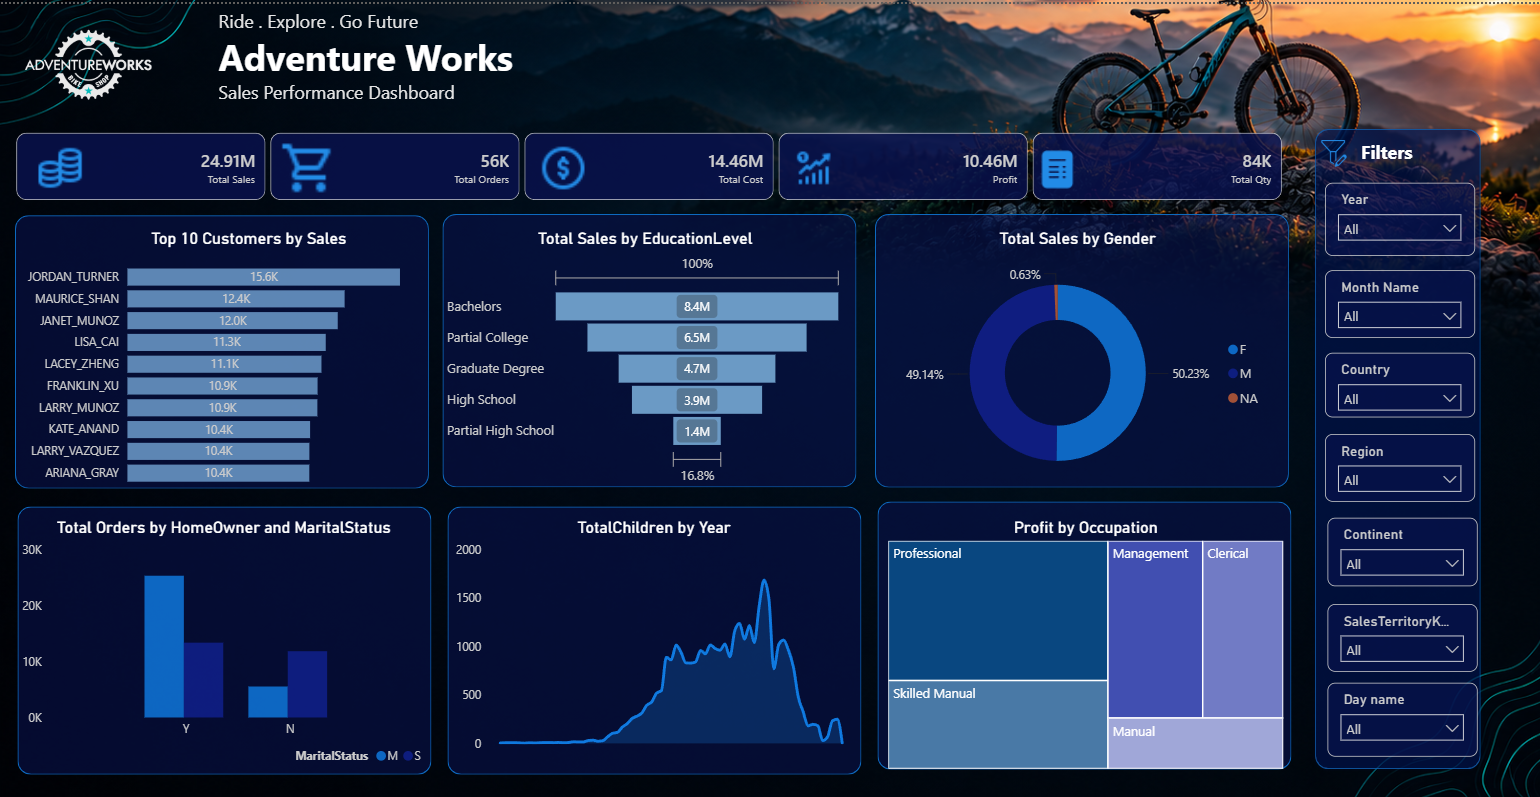

Layout of this report page (visuals, bound fields, positions):
{"tool":"powerbi","page":{"name":"Overview","canvas":[1600,800],"ordinal":1},"visuals":[{"type":"shape","box":[1362.9,125.7,180,672.9],"z":1000},{"type":"slicer","fields":{"Values":["Territories.Continent"]},"box":[1378.6,534.3,155.7,71.4],"z":2000},{"type":"slicer","fields":{"Values":["Territories.Country"]},"box":[1377.1,362.9,155.7,67.1],"z":3000},{"type":"slicer","fields":{"Values":["Territories.Region"]},"box":[1377.1,447.1,155.7,70],"z":4000},{"type":"slicer","fields":{"Values":["Territories.SalesTerritoryKey"]},"box":[1378.6,622.9,155.7,70],"z":5000},{"type":"slicer","fields":{"Values":["Calender Table.Year"]},"box":[1377.1,185.7,155.7,75.7],"z":6000},{"type":"slicer","fields":{"Values":["Calender Table.Day name"]},"box":[1378.6,705.7,155.7,77.1],"z":7000},{"type":"slicer","fields":{"Values":["Calender Table.Month Name"]},"box":[1377.1,277.1,155.7,70],"z":8000},{"type":"shape","box":[32.9,225.7,545.7,574.3],"z":9000},{"type":"shape","box":[582.9,224.3,757.1,285.7],"z":11000},{"type":"shape","box":[582.9,518.6,757.1,280],"z":12000},{"type":"cardVisual","fields":{"Data":["Sales.Total Sales","Sales.Total Orders","Sales.Total Cost","Sales.Profit","Sales.Total Qty"]},"box":[15.7,117.1,1347.1,104.3],"z":13000},{"type":"image","box":[15.7,0,152.9,125.7],"z":14000},{"type":"image","box":[48.6,135.7,65.7,70],"z":15000},{"type":"image","box":[305.7,141.4,57.1,65.7],"z":16000},{"type":"image","box":[567.1,135.7,51.4,70],"z":17000},{"type":"image","box":[835.7,135.7,51.4,70],"z":18000},{"type":"image","box":[1097.1,137.1,57.1,70],"z":19000},{"type":"textbox","box":[1408.6,135.7,102.9,40],"z":25000},{"type":"image","box":[1362.9,140,45.7,28.6],"z":26000},{"type":"textbox","box":[221.4,0,357.1,125.7],"z":27000},{"type":"decompositionTreeVisual","fields":{"Analyze":["Sales.Total Sales"],"ExplainBy":["Territories.Country","Territories.Region"]},"box":[32.9,247.1,524.3,551.4],"z":27001},{"type":"lineChart","fields":{"Category":["Calender Table.Year","Calender Table.Month number"],"Y":["Sales.Total Sales running total in Date"]},"box":[582.9,247.1,757.1,251.4],"z":27002},{"type":"kpi","fields":{"Indicator":["Sales.Total Sales"],"TrendLine":["Calender Table.start of month"],"Goal":["Sales.target of sales"]},"box":[592.9,534.3,747.1,264.3],"z":27003}]}

Visuals, with their boxes on the page's 1600x800 design canvas (x1, y1, x2, y2). These are canvas units, not pixel positions in the 1540x797 screenshot, which may show the page scaled, cropped or inside an application window:
shape: locate(1363, 126, 1543, 799)
slicer - Territories.Continent: locate(1379, 534, 1534, 606)
slicer - Territories.Country: locate(1377, 363, 1533, 430)
slicer - Territories.Region: locate(1377, 447, 1533, 517)
slicer - Territories.SalesTerritoryKey: locate(1379, 623, 1534, 693)
slicer - Calender Table.Year: locate(1377, 186, 1533, 261)
slicer - Calender Table.Day name: locate(1379, 706, 1534, 783)
slicer - Calender Table.Month Name: locate(1377, 277, 1533, 347)
shape: locate(33, 226, 579, 800)
shape: locate(583, 224, 1340, 510)
shape: locate(583, 519, 1340, 799)
cardVisual - Sales.Total Sales x Sales.Total Orders: locate(16, 117, 1363, 221)
image: locate(16, 0, 169, 126)
image: locate(49, 136, 114, 206)
image: locate(306, 141, 363, 207)
image: locate(567, 136, 618, 206)
image: locate(836, 136, 887, 206)
image: locate(1097, 137, 1154, 207)
textbox: locate(1409, 136, 1512, 176)
image: locate(1363, 140, 1409, 169)
textbox: locate(221, 0, 578, 126)
decompositionTreeVisual - Sales.Total Sales x Territories.Country: locate(33, 247, 557, 798)
lineChart - Calender Table.Year x Calender Table.Month number: locate(583, 247, 1340, 498)
kpi - Sales.Total Sales x Calender Table.start of month: locate(593, 534, 1340, 799)
